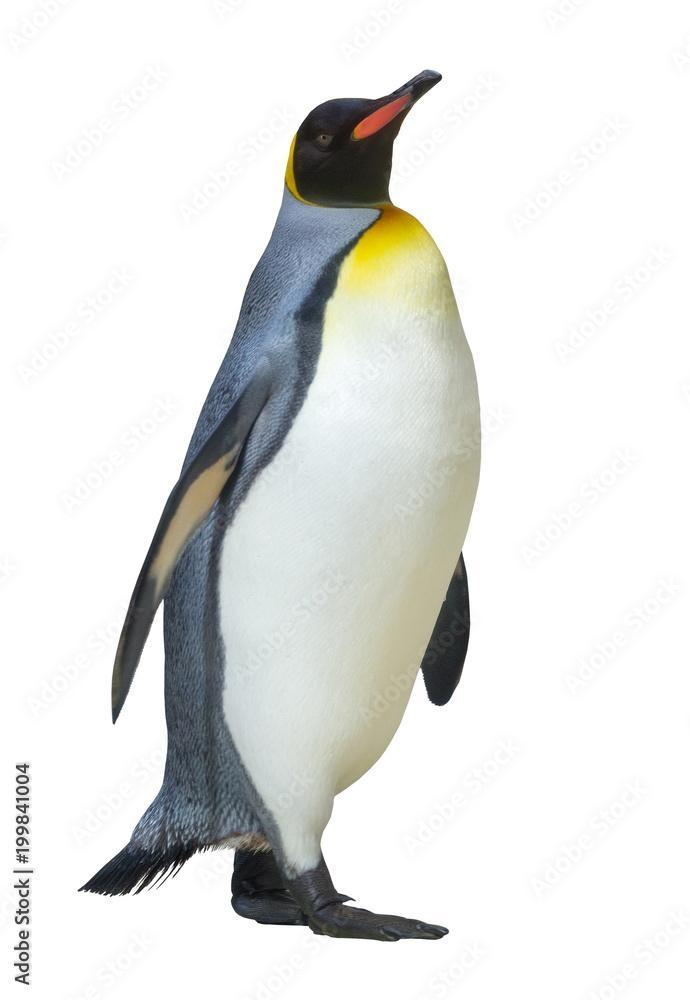Penguin: (82, 70, 480, 940)
